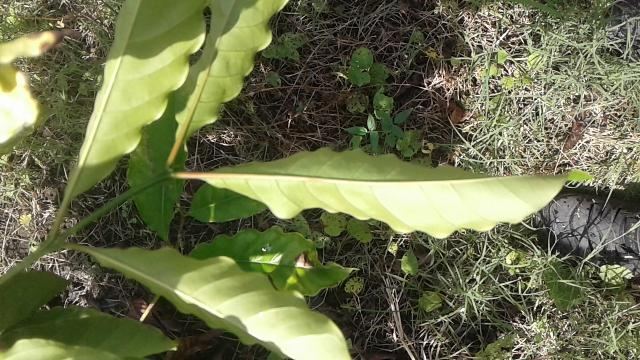healthy: (200, 140, 602, 243)
